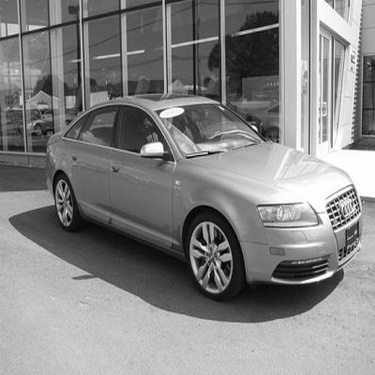car: (37, 84, 369, 306)
